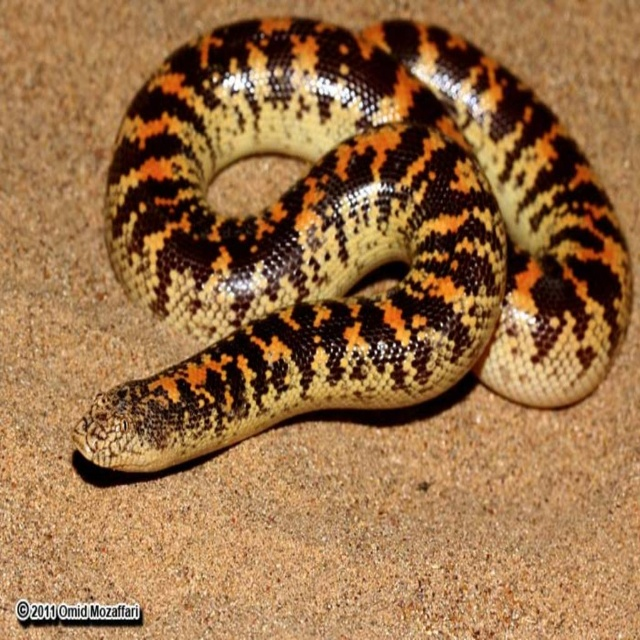Snake: (70, 10, 634, 480)
